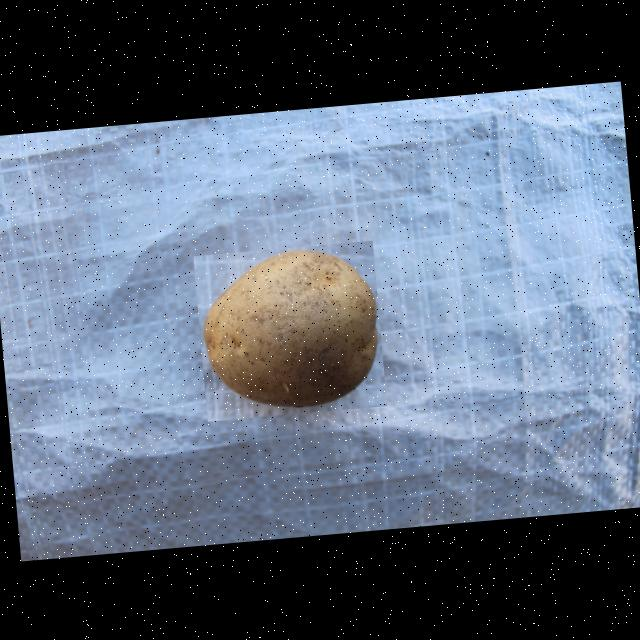Diseased-fungal potato: (192, 240, 386, 420)
